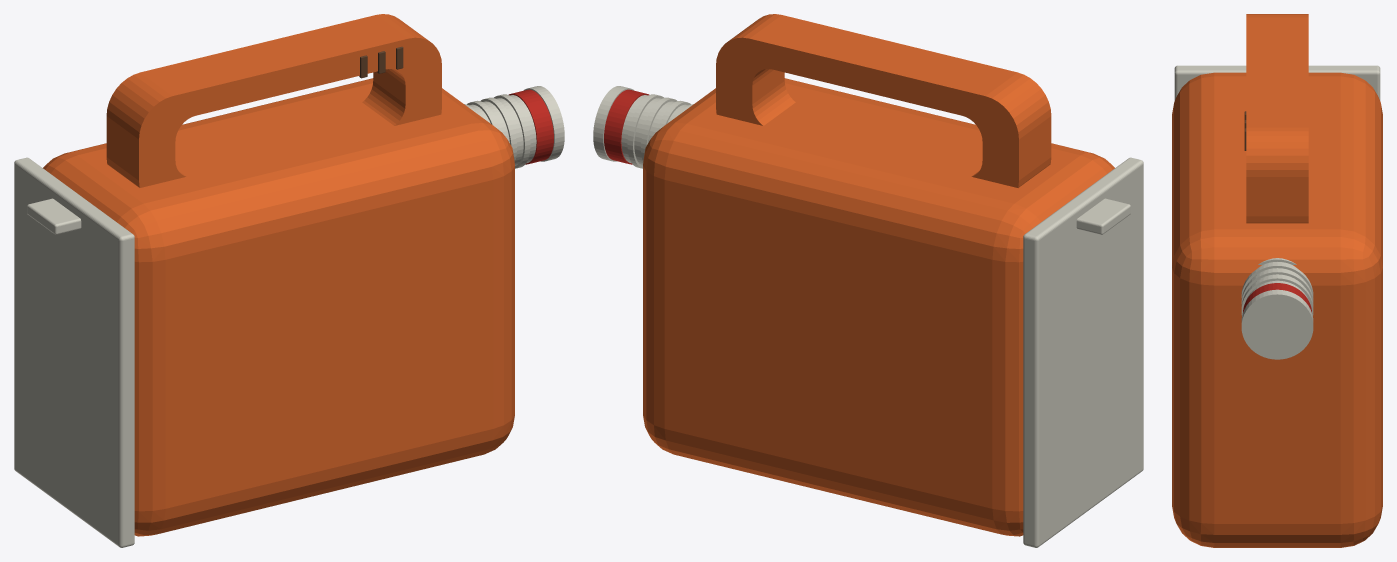
Rendered from full.fbx.
3 renders of one model, left to right at view 1: azimuth 30°, elevation 25°; view 2: azimuth 150°, elevation 25°; view 3: azimuth 270°, elevation 25°, orthographic. The views are drawn at different scales.
Parts seen in each view (by area): view 1: Rounded closed appliance body, Pale perimeter end plate, Integral arch carrying handle, Red exterior neck band, Short pale external neck, Small projecting end tab, Pale sealed outer rim; view 2: Rounded closed appliance body, Pale perimeter end plate, Integral arch carrying handle, Red exterior neck band, Short pale external neck, Small projecting end tab, Pale sealed outer rim; view 3: Rounded closed appliance body, Integral arch carrying handle, Pale sealed outer rim, Pale perimeter end plate, External neck rib 3, Red exterior neck band, External neck rib 1, External neck rib 2, Short pale external neck.
Boxes of the visible parts, x1,y1,x2,y2 form: Rounded closed appliance body: [43, 78, 514, 536]; Pale perimeter end plate: [14, 157, 134, 547]; Integral arch carrying handle: [106, 14, 441, 187]; Red exterior neck band: [508, 89, 553, 164]; Short pale external neck: [469, 95, 536, 165]; Small projecting end tab: [27, 198, 81, 234]; Pale sealed outer rim: [523, 86, 564, 161]; Rounded closed appliance body: [643, 78, 1114, 536]; Pale perimeter end plate: [1023, 157, 1143, 547]; Integral arch carrying handle: [716, 14, 1051, 187]; Red exterior neck band: [604, 89, 649, 164]; Short pale external neck: [621, 95, 688, 165]; Small projecting end tab: [1076, 198, 1130, 234]; Pale sealed outer rim: [593, 86, 634, 161]; Rounded closed appliance body: [1172, 72, 1382, 547]; Integral arch carrying handle: [1246, 14, 1308, 223]; Pale sealed outer rim: [1241, 289, 1313, 359]; Pale perimeter end plate: [1174, 65, 1380, 100]; External neck rib 3: [1241, 276, 1313, 316]; Red exterior neck band: [1243, 283, 1311, 312]; External neck rib 1: [1241, 263, 1313, 297]; External neck rib 2: [1241, 269, 1313, 303]; Short pale external neck: [1246, 262, 1308, 300].
Bounding box in the file's own units: 45 × 35.15 × 17.
